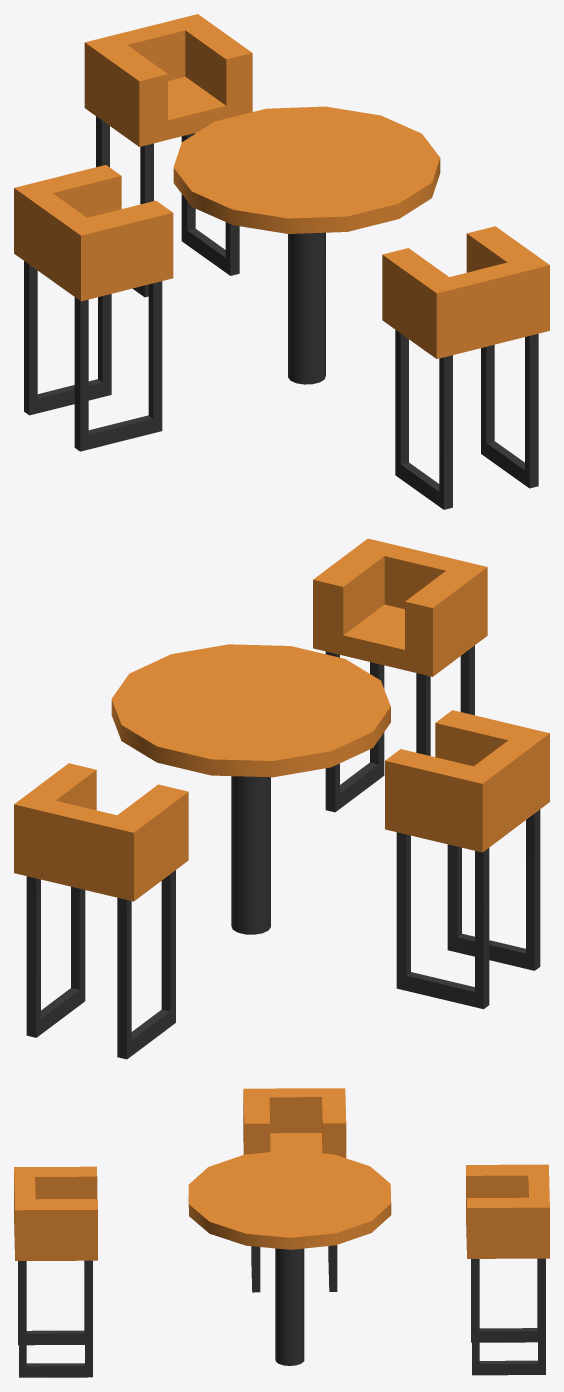
The model's file is chairAndTable.fbx.
3 views of the same model, one above another, from view 1: azimuth 30°, elevation 25°; view 2: azimuth 150°, elevation 25°; view 3: azimuth 270°, elevation 25° (orthographic). The views are drawn at different scales.
Visible parts, largest first — view 1: table_03, chair_02_geo, chair_03_geo, chair_01_geo; view 2: table_03, chair_02_geo, chair_01_geo, chair_03_geo; view 3: table_03, chair_01_geo, chair_03_geo, chair_02_geo.
Boxes of the visible parts, left/top/right/bottom form: table_03: left=173, top=106, right=440, bottom=384; chair_02_geo: left=14, top=165, right=173, bottom=451; chair_03_geo: left=382, top=226, right=549, bottom=509; chair_01_geo: left=84, top=14, right=252, bottom=297; table_03: left=111, top=644, right=390, bottom=934; chair_02_geo: left=385, top=710, right=549, bottom=1009; chair_01_geo: left=14, top=763, right=188, bottom=1059; chair_03_geo: left=313, top=538, right=487, bottom=812; table_03: left=188, top=1150, right=391, bottom=1365; chair_01_geo: left=466, top=1164, right=549, bottom=1375; chair_03_geo: left=14, top=1166, right=97, bottom=1377; chair_02_geo: left=243, top=1088, right=346, bottom=1292.
Size of the model in its own units: 6.95 by 4.01 by 11.17.
Materials: 1 (1 with a texture image).
